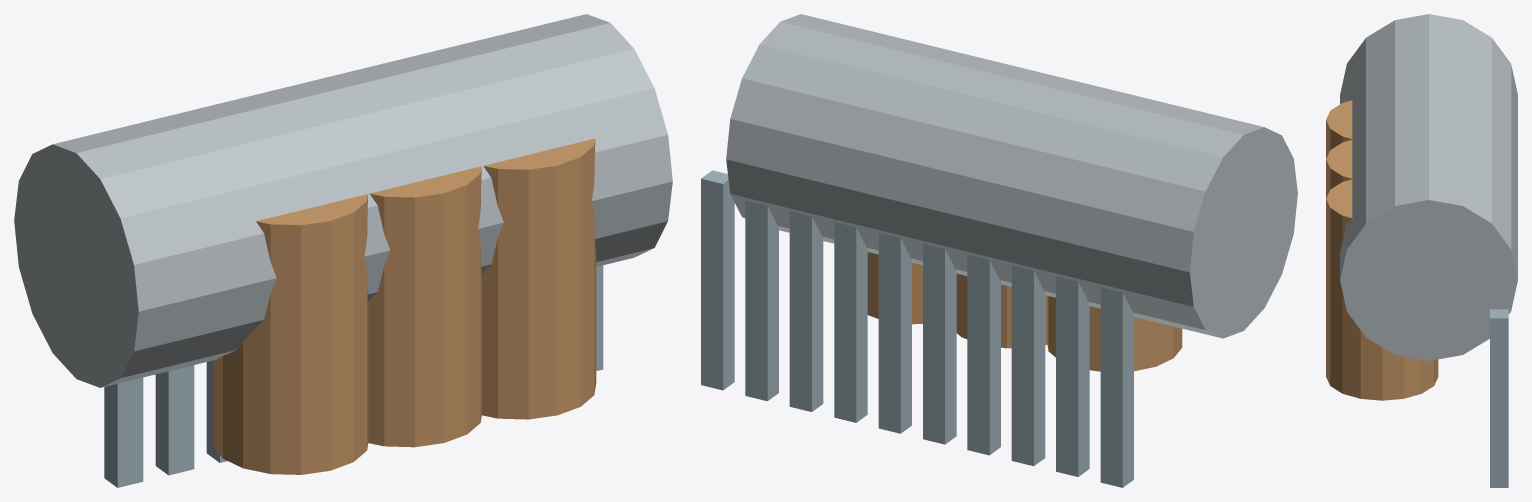
File: 02_L69_CompressorCutawayAssembly.glb
The picture shows the model from 3 angles, left to right: view 1: azimuth 30°, elevation 25°; view 2: azimuth 150°, elevation 25°; view 3: azimuth 270°, elevation 25°; orthographic projection. The views are drawn at different scales.
Parts seen in each view (by area): view 1: CompressorCutawayAssembly_Part_000, CompressorCutawayAssembly_Part_003, CompressorCutawayAssembly_Part_004, CompressorCutawayAssembly_Part_006, CompressorCutawayAssembly_Part_005, CompressorCutawayAssembly_Part_002, CompressorCutawayAssembly_Part_001, CompressorCutawayAssembly_Part_007, CompressorCutawayAssembly_Part_008, CompressorCutawayAssembly_Part_016, CompressorCutawayAssembly_Part_009; view 2: CompressorCutawayAssembly_Part_000, CompressorCutawayAssembly_Part_003, CompressorCutawayAssembly_Part_002, CompressorCutawayAssembly_Part_001, CompressorCutawayAssembly_Part_016, CompressorCutawayAssembly_Part_009, CompressorCutawayAssembly_Part_014, CompressorCutawayAssembly_Part_007, CompressorCutawayAssembly_Part_012, CompressorCutawayAssembly_Part_015, CompressorCutawayAssembly_Part_010, CompressorCutawayAssembly_Part_008 (+5 smaller); view 3: CompressorCutawayAssembly_Part_003, CompressorCutawayAssembly_Part_000, CompressorCutawayAssembly_Part_002, CompressorCutawayAssembly_Part_006, CompressorCutawayAssembly_Part_001, CompressorCutawayAssembly_Part_016, CompressorCutawayAssembly_Part_004, CompressorCutawayAssembly_Part_005.
Part boxes in pixels (left/top/right/bottom): CompressorCutawayAssembly_Part_000: left=14, top=98, right=322, bottom=387; CompressorCutawayAssembly_Part_003: left=418, top=14, right=672, bottom=266; CompressorCutawayAssembly_Part_004: left=213, top=194, right=368, bottom=474; CompressorCutawayAssembly_Part_006: left=482, top=138, right=596, bottom=419; CompressorCutawayAssembly_Part_005: left=368, top=166, right=481, bottom=447; CompressorCutawayAssembly_Part_002: left=283, top=42, right=549, bottom=300; CompressorCutawayAssembly_Part_001: left=167, top=78, right=436, bottom=343; CompressorCutawayAssembly_Part_007: left=104, top=377, right=143, bottom=487; CompressorCutawayAssembly_Part_008: left=155, top=365, right=194, bottom=475; CompressorCutawayAssembly_Part_016: left=596, top=265, right=603, bottom=370; CompressorCutawayAssembly_Part_009: left=206, top=360, right=227, bottom=462; CompressorCutawayAssembly_Part_000: left=1022, top=86, right=1297, bottom=338; CompressorCutawayAssembly_Part_003: left=726, top=14, right=948, bottom=265; CompressorCutawayAssembly_Part_002: left=825, top=38, right=1066, bottom=286; CompressorCutawayAssembly_Part_001: left=923, top=62, right=1159, bottom=308; CompressorCutawayAssembly_Part_016: left=701, top=170, right=734, bottom=390; CompressorCutawayAssembly_Part_009: left=1011, top=265, right=1045, bottom=466; CompressorCutawayAssembly_Part_014: left=789, top=211, right=823, bottom=411; CompressorCutawayAssembly_Part_007: left=1100, top=287, right=1133, bottom=487; CompressorCutawayAssembly_Part_012: left=878, top=233, right=911, bottom=433; CompressorCutawayAssembly_Part_015: left=745, top=200, right=778, bottom=401; CompressorCutawayAssembly_Part_010: left=967, top=254, right=1000, bottom=455; CompressorCutawayAssembly_Part_008: left=1056, top=276, right=1089, bottom=476; CompressorCutawayAssembly_Part_003: left=1340, top=132, right=1517, bottom=360; CompressorCutawayAssembly_Part_000: left=1340, top=14, right=1517, bottom=160; CompressorCutawayAssembly_Part_002: left=1352, top=93, right=1517, bottom=239; CompressorCutawayAssembly_Part_006: left=1326, top=179, right=1438, bottom=400; CompressorCutawayAssembly_Part_001: left=1352, top=53, right=1517, bottom=197; CompressorCutawayAssembly_Part_016: left=1490, top=309, right=1508, bottom=487; CompressorCutawayAssembly_Part_004: left=1326, top=100, right=1352, bottom=158; CompressorCutawayAssembly_Part_005: left=1326, top=140, right=1352, bottom=198.
Size of the model in its own units: 1 by 0.65 by 0.41.
